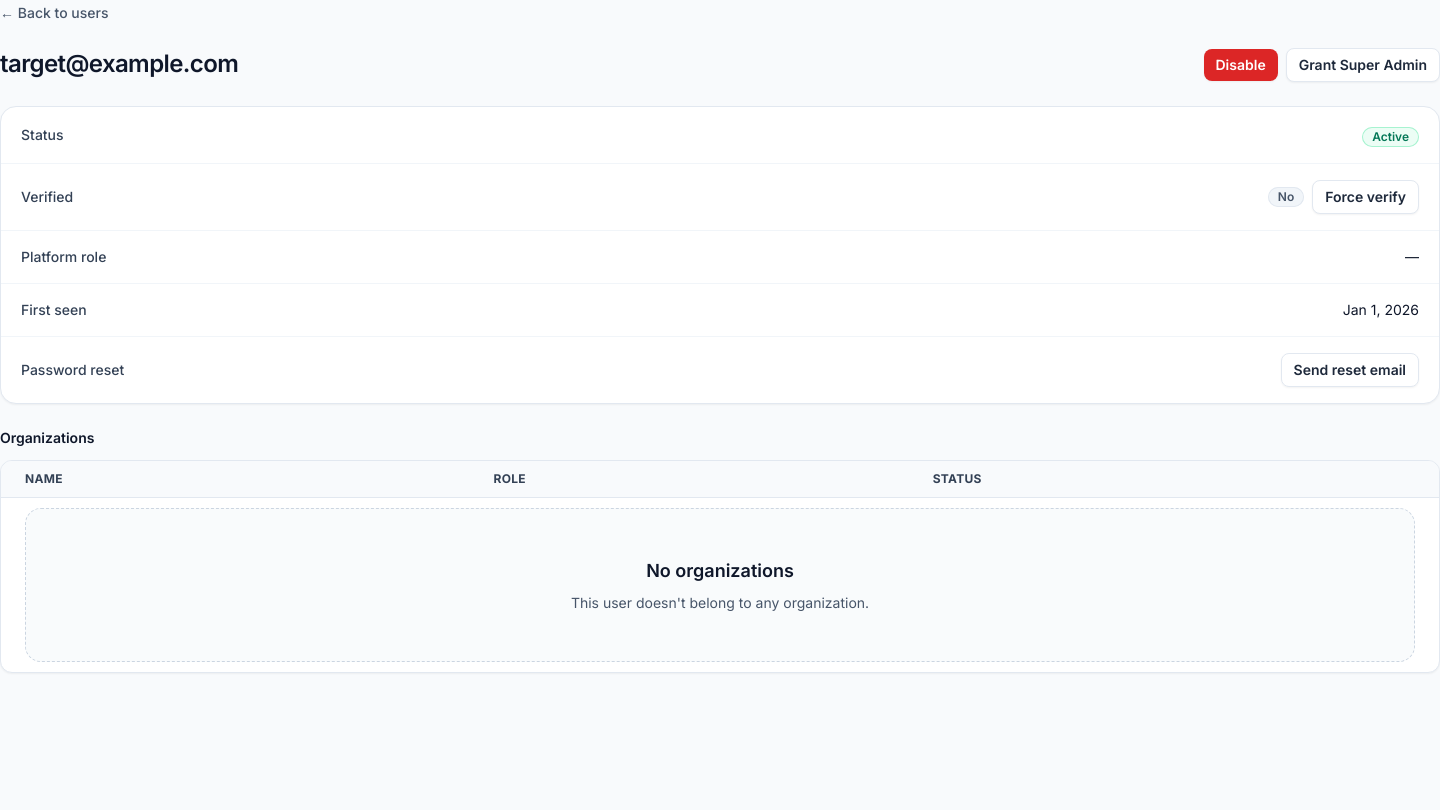
Test: PlatformUserDetailPage actions › shows a controlled error and keeps the dialog open on a conflicted mutation, without optimistic status change
Click the button "Disable": (1241, 65) [1204,49,1278,81]
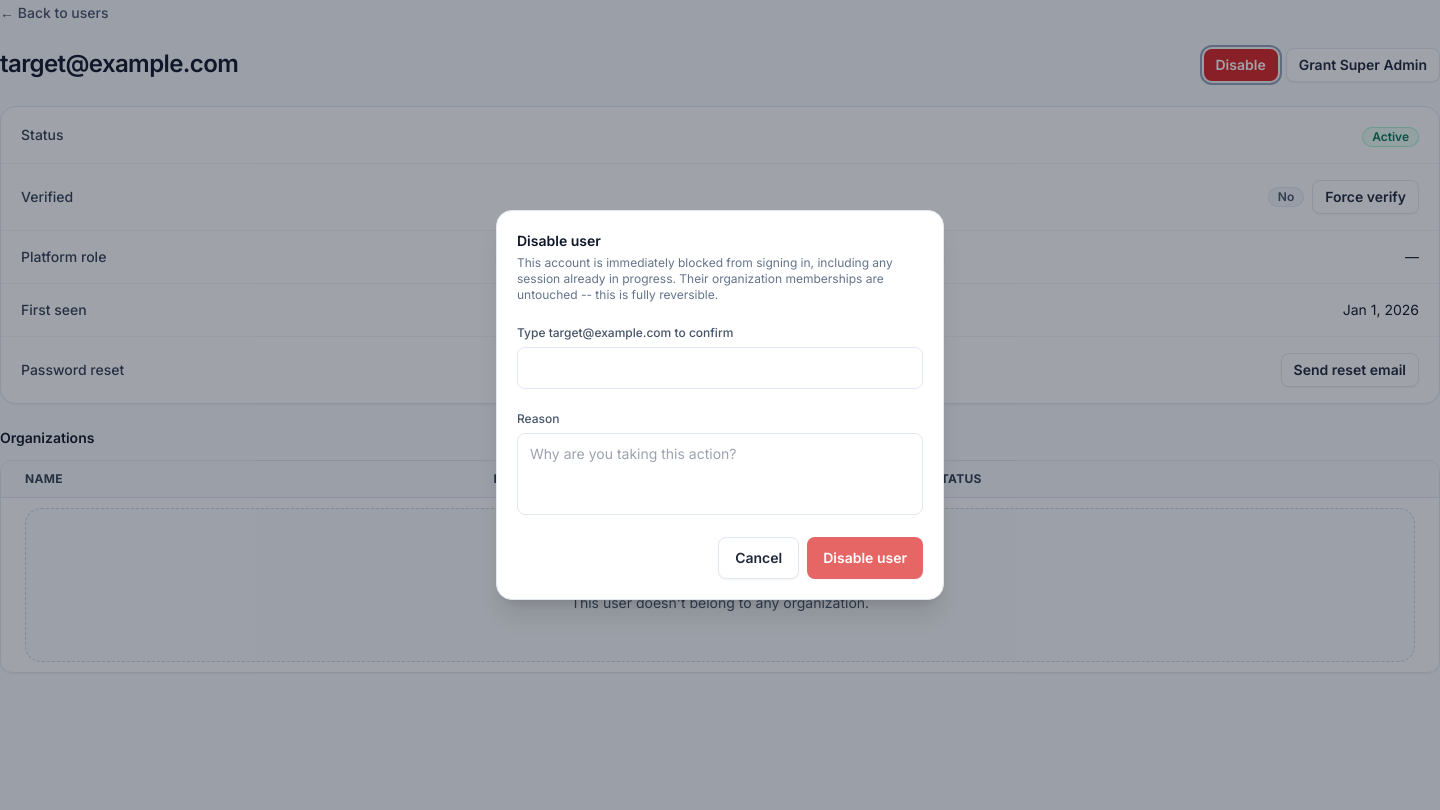
In the field labelled "Type target@example.com to confirm": (720, 368) [517,347,923,389], type "target@example.com"
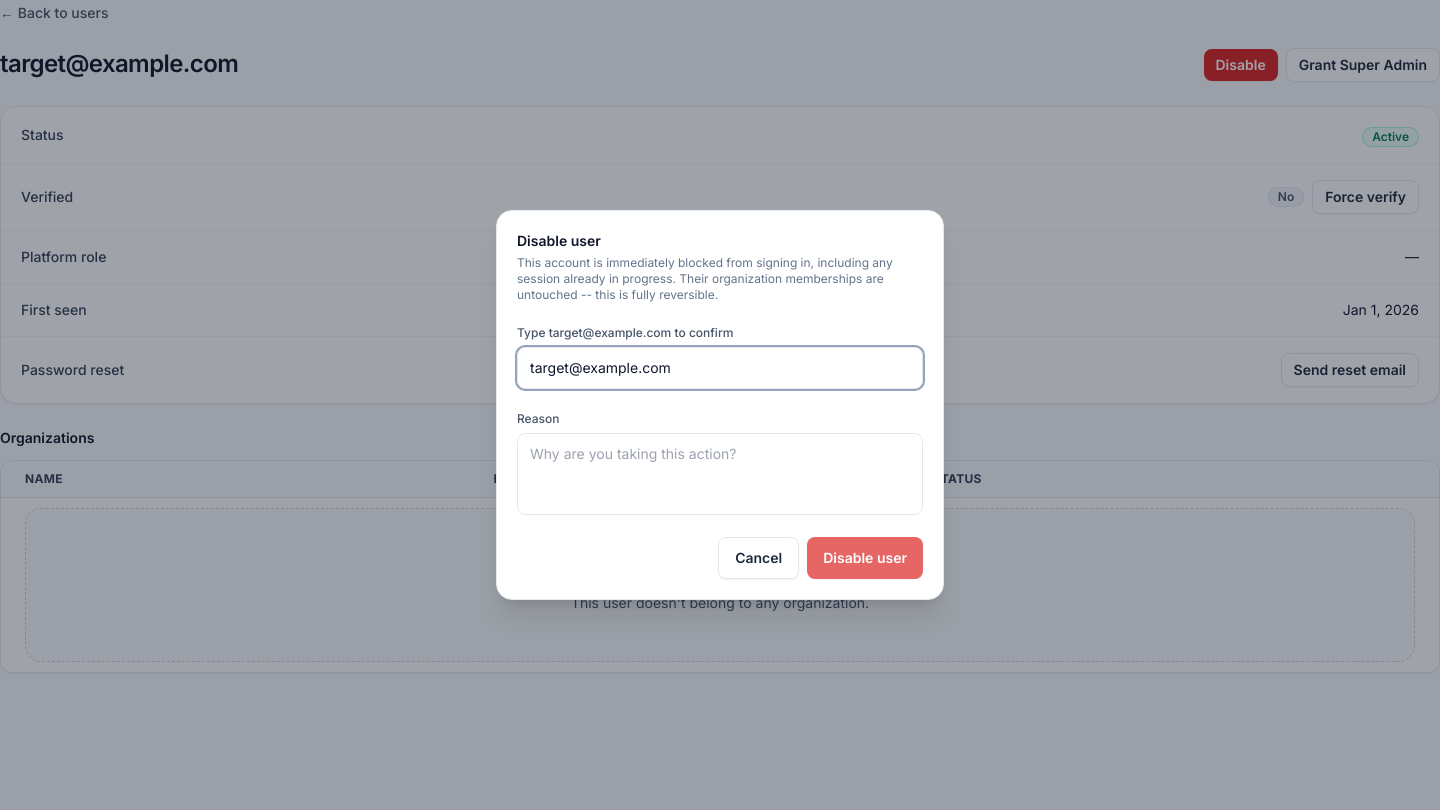
In the text box labelled "Reason": (720, 474) [517,433,923,515], type "policy violation"
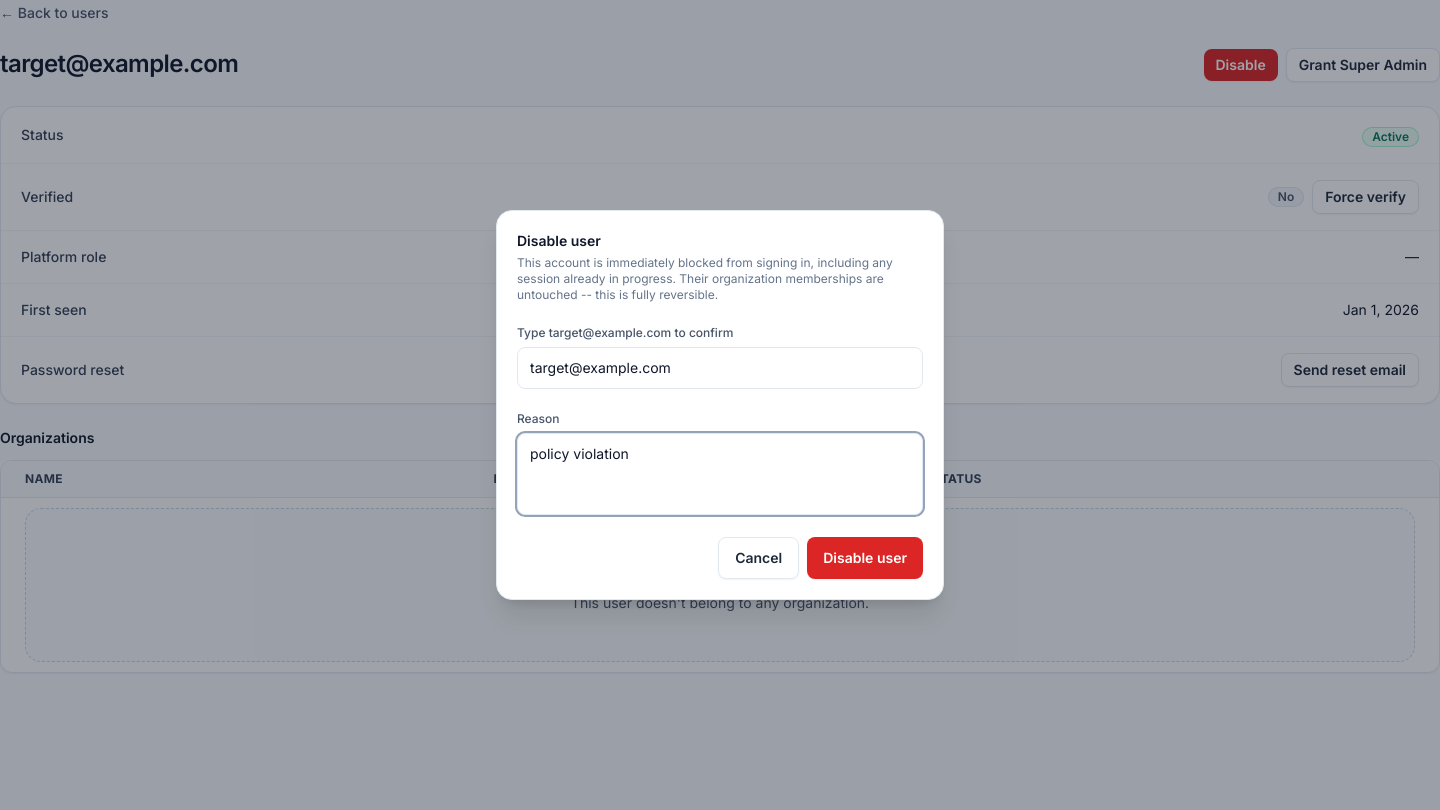
Click the button "Disable user": (865, 558) [807,537,923,579]
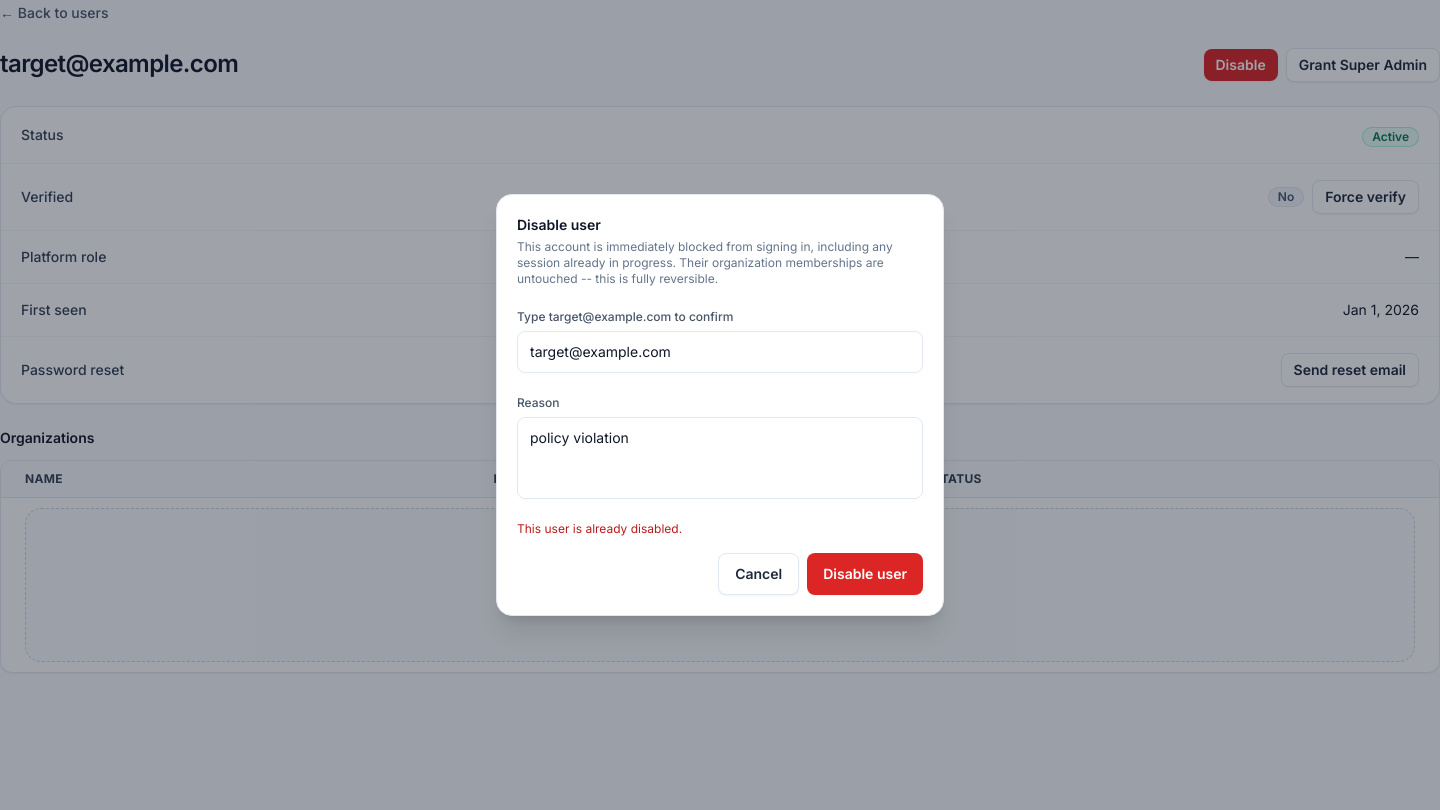
Expected: the text "Active" is shown, [1362,127,1419,147]
Expected: the dialog is shown, [496,194,944,616]
Expected: the message reads "This user is already disabled.", [517,521,682,536]
